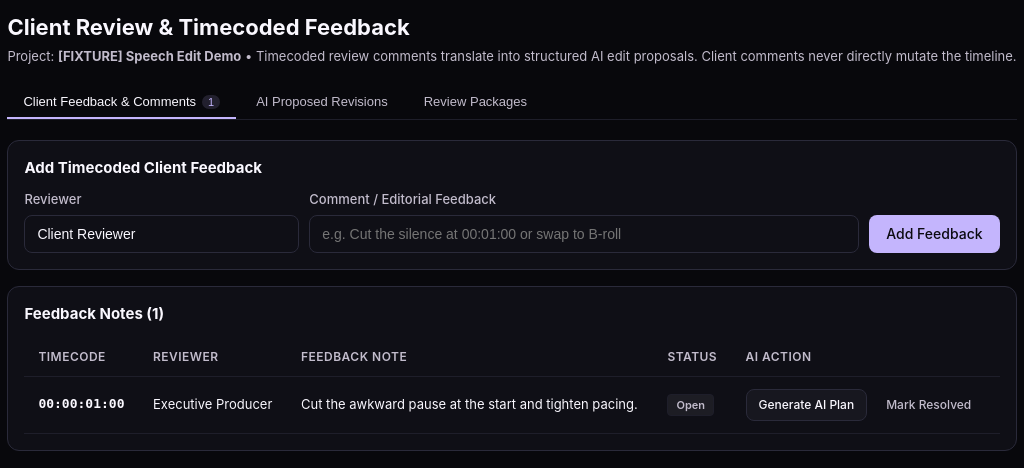
Test case: ReviewRoute UI & Workflow › generates structured AI proposal from comment and applies revision with human confirmation
Click the button "Generate AI Plan": point(806, 405) x1=746 y1=389 x2=867 y2=421
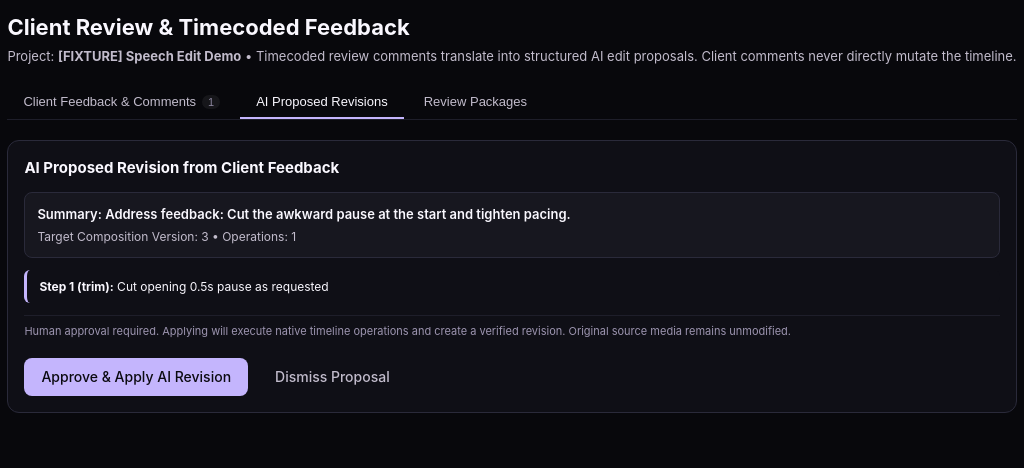
Check: the heading "AI Proposed Revision from Client Feedback" is shown, box x1=24 y1=158 x2=339 y2=177
Check: the text "Summary: Address feedback: Cut the awkward pause at the start and tighten pacing." is shown, box x1=37 y1=206 x2=571 y2=222
Check: the button "Approve & Apply AI Revision" is shown, box x1=24 y1=358 x2=248 y2=396
